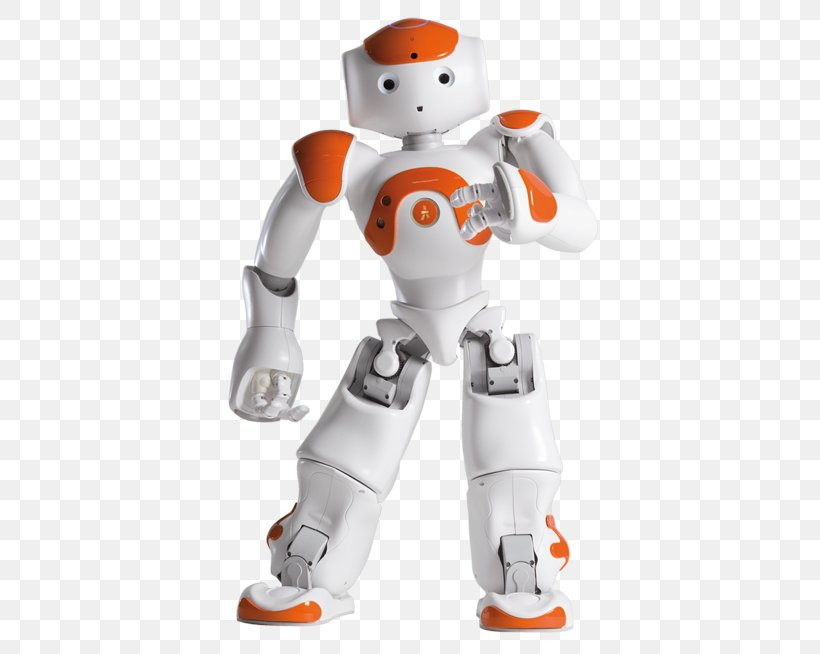nao: (196, 10, 626, 654)
